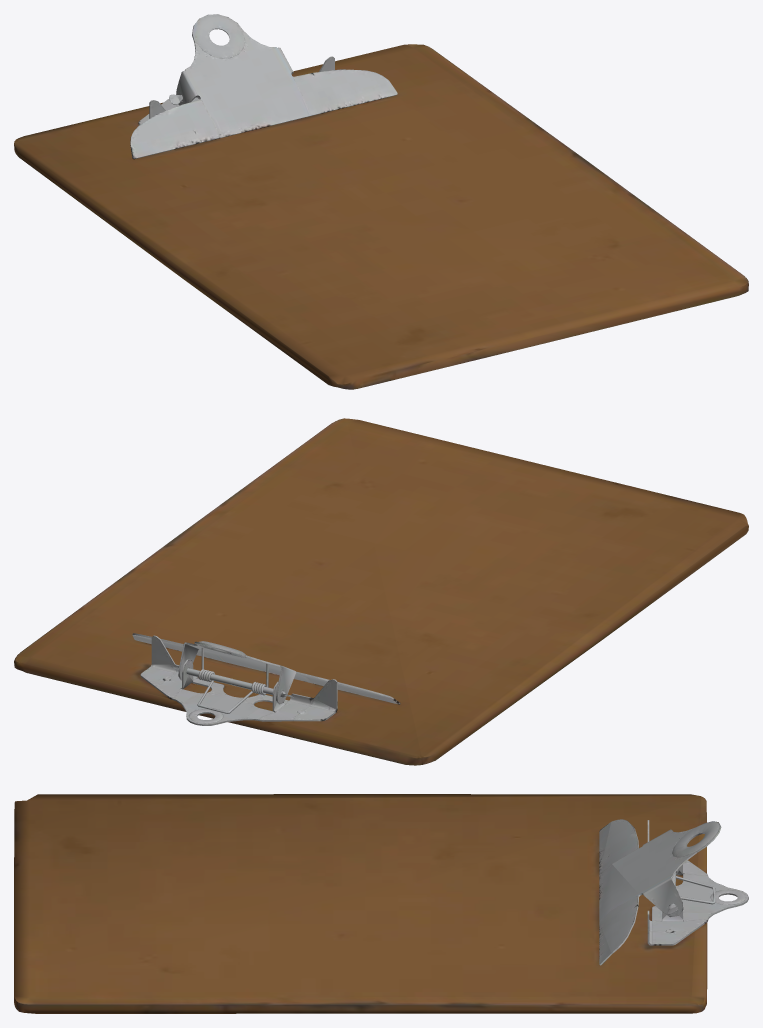
The model's file is cartellina.glb.
The picture shows the model from 3 angles, top to bottom: view 1: azimuth 30°, elevation 25°; view 2: azimuth 150°, elevation 25°; view 3: azimuth 270°, elevation 25°; orthographic projection. The views are drawn at different scales.
Parts seen in each view (by area): view 1: clipboard; view 2: clipboard; view 3: clipboard.
Part boxes in pixels (box(x1,y1,x2,y2)): clipboard: box(14, 14, 748, 389); clipboard: box(14, 418, 748, 765); clipboard: box(14, 794, 748, 1013).
Size of the model in its own units: 0.2285 by 0.042 by 0.3365.
1 material, 1 textured.
